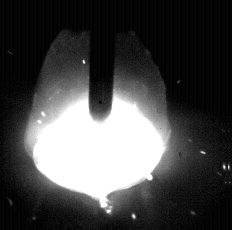arame: (90, 0, 114, 121)
poca: (24, 0, 169, 230)
